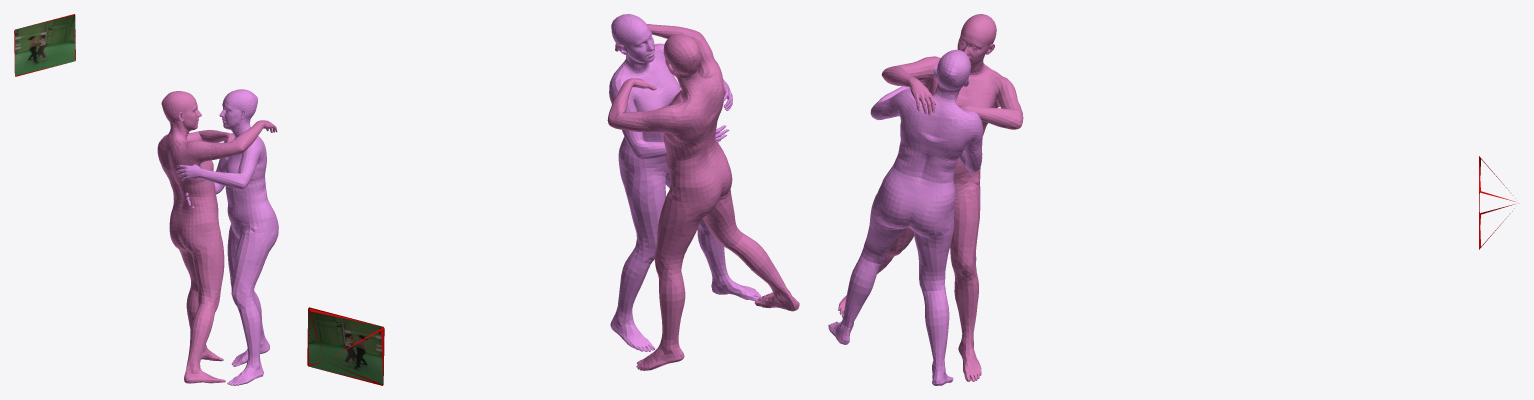
Rendered from pair02_dance02_000118.jpg_multiHMR_896_L.png.glb.
3 views of the same model, side by side, from view 1: azimuth 30°, elevation 25°; view 2: azimuth 150°, elevation 25°; view 3: azimuth 270°, elevation 25° (orthographic). The views are drawn at different scales.
Parts seen in each view (by area): view 1: world; view 2: world; view 3: world.
Part boxes in pixels (x1,y1,x2,y2): world: (14, 14, 278, 385); world: (307, 14, 799, 385); world: (828, 14, 1515, 385).
Size of the model in its own units: 0.9636 by 1.78 by 3.27.
3 materials, 1 textured.
